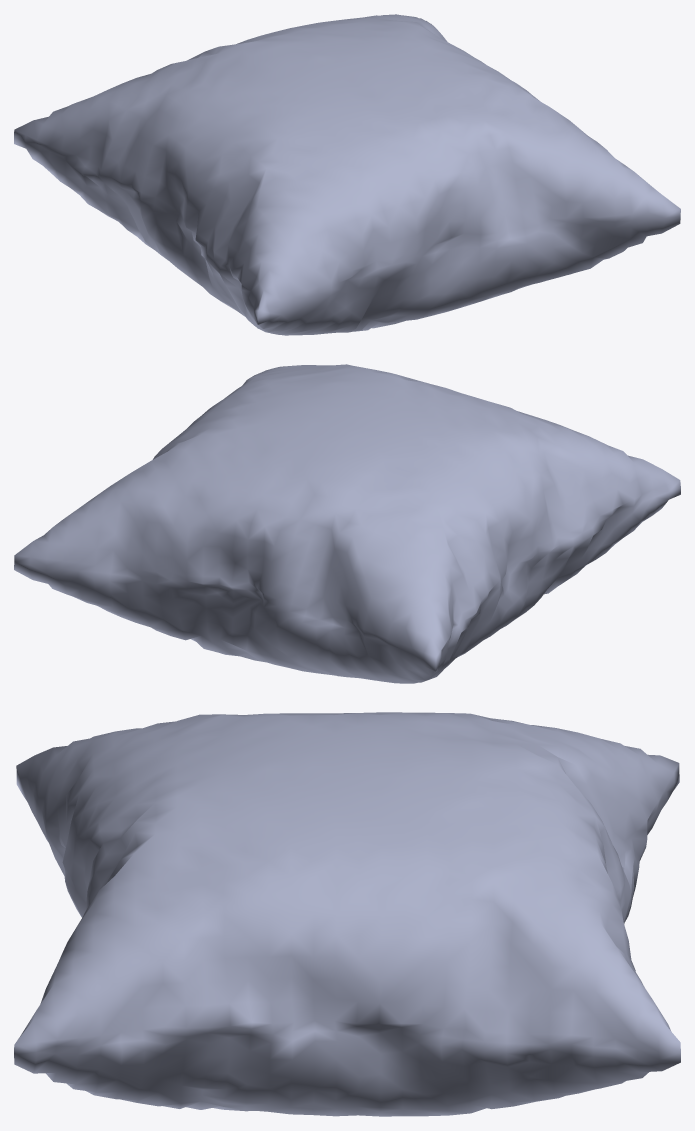
Rendered from PillowHp.gltf.
The picture shows the model from 3 angles, top to bottom: view 1: azimuth 30°, elevation 25°; view 2: azimuth 150°, elevation 25°; view 3: azimuth 270°, elevation 25°; orthographic projection. The views are drawn at different scales.
Parts seen in each view (by area): view 1: pillow; view 2: pillow; view 3: pillow.
Boxes of the visible parts, <box> form: pillow: <box>14,14,680,335</box>; pillow: <box>14,364,680,683</box>; pillow: <box>14,712,680,1116</box>.
Size of the model in its own units: 1.88 by 0.8915 by 1.9.
